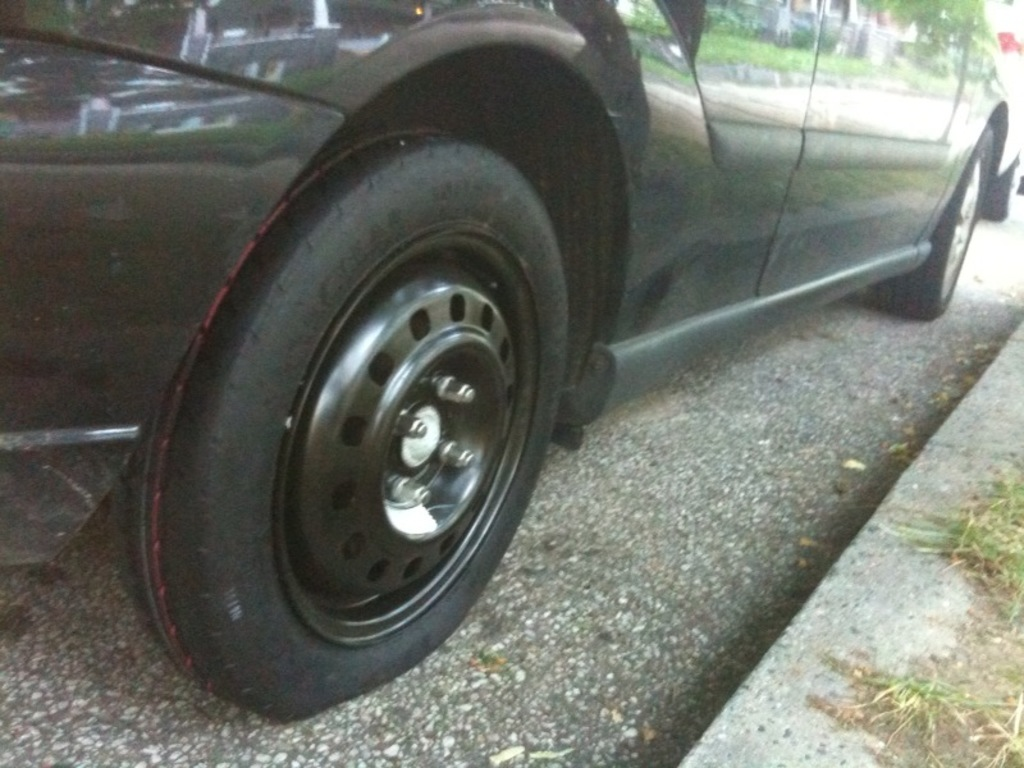Wheel: (116, 125, 570, 726), (863, 123, 996, 320)
